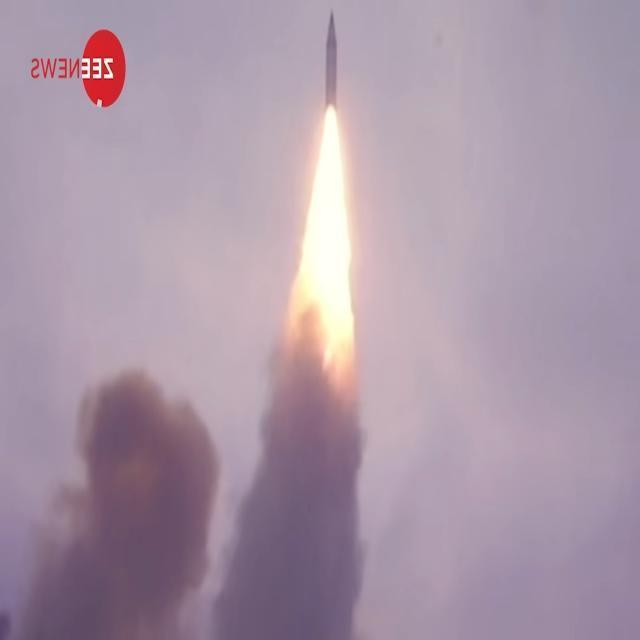missile: (314, 10, 342, 109)
